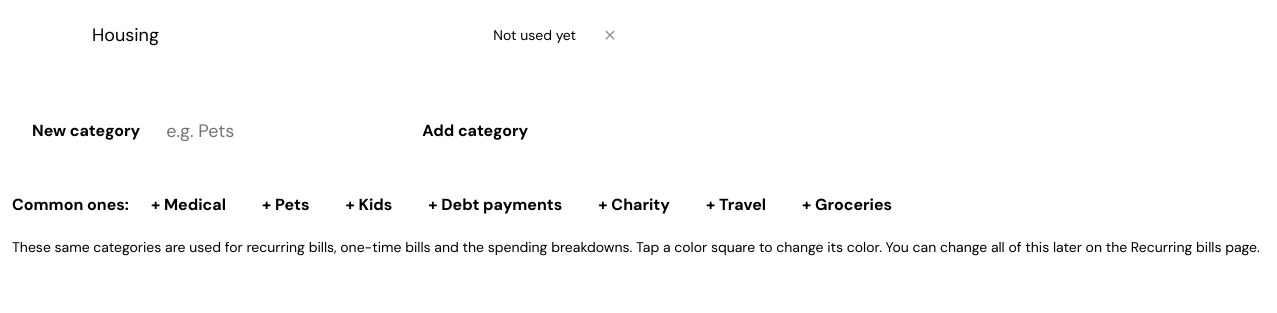
Scenario: P1-11 bill categories step › rejects an empty new name
Expected: the field named "Name of Housing" is shown, [78,12,481,59]
Click the button "Add category": (475, 131) [402,107,548,155]
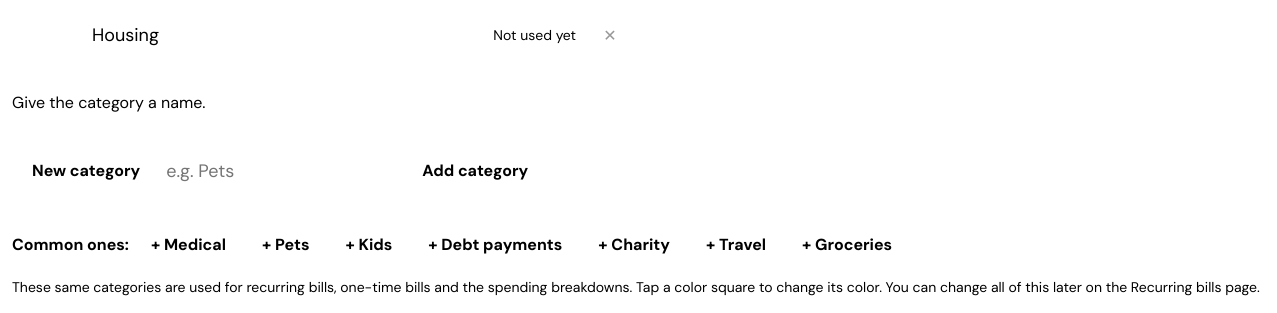
Now the message reads "Give the category a name.", box [12,92,205,113]
